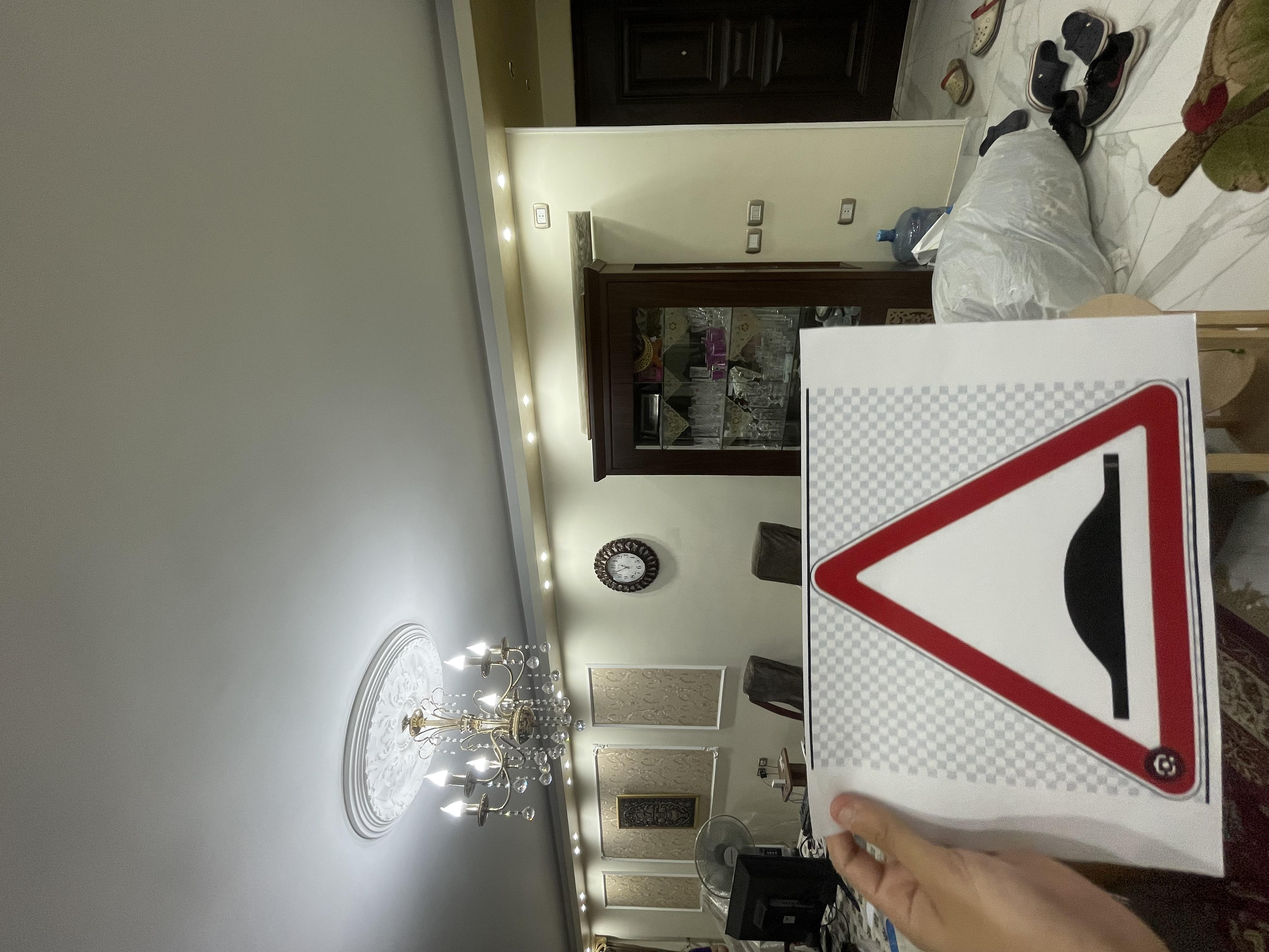Hump: (204, 607, 756, 902)
